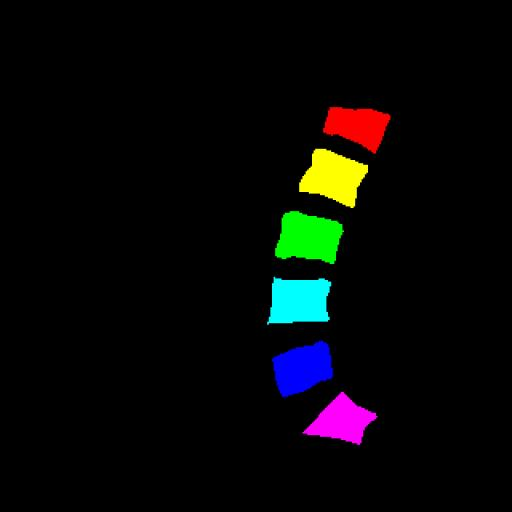L1: (323, 107, 390, 154)
L2: (299, 149, 368, 208)
L3: (275, 211, 343, 264)
L4: (268, 277, 331, 324)
L5: (272, 341, 333, 397)
S1: (303, 392, 377, 444)
